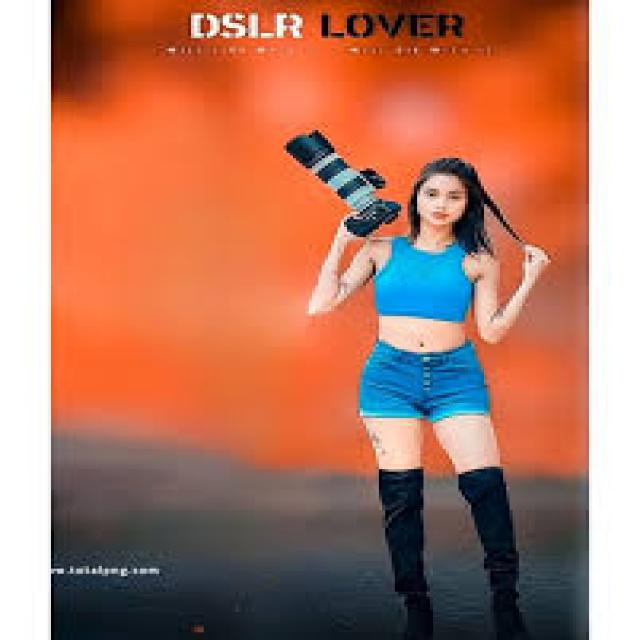Edited images: (307, 146, 591, 640)
